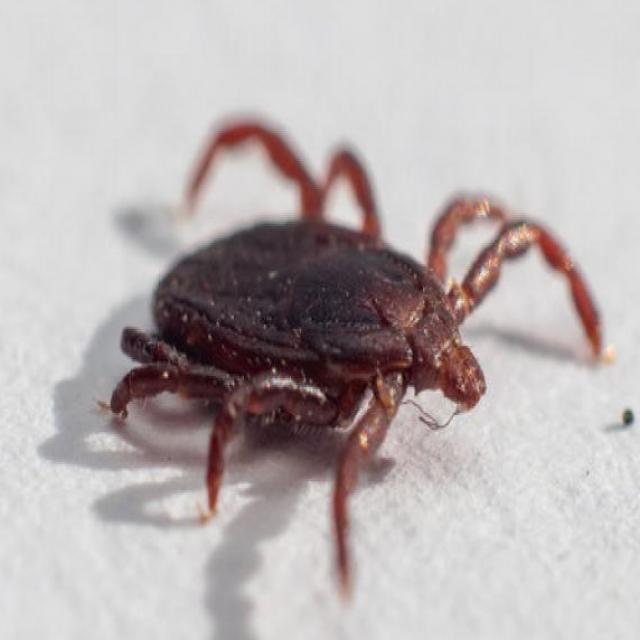Rhipicephalus Sanguineus-F: (105, 118, 605, 595)
